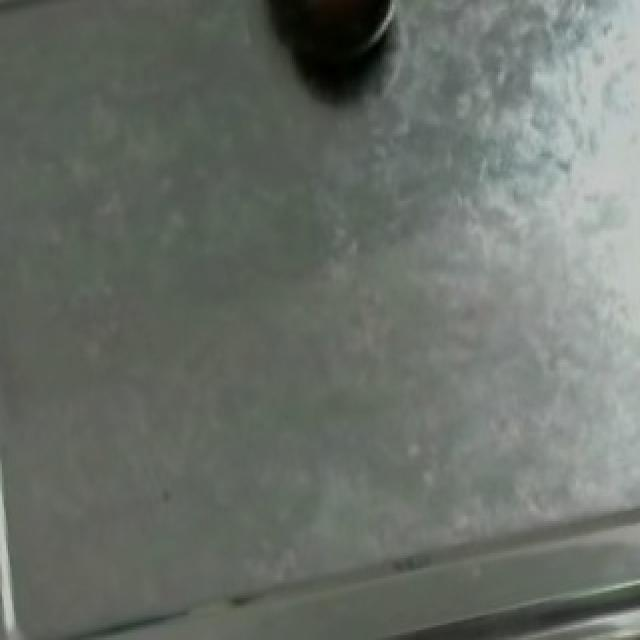Fruit: (256, 0, 410, 94)
